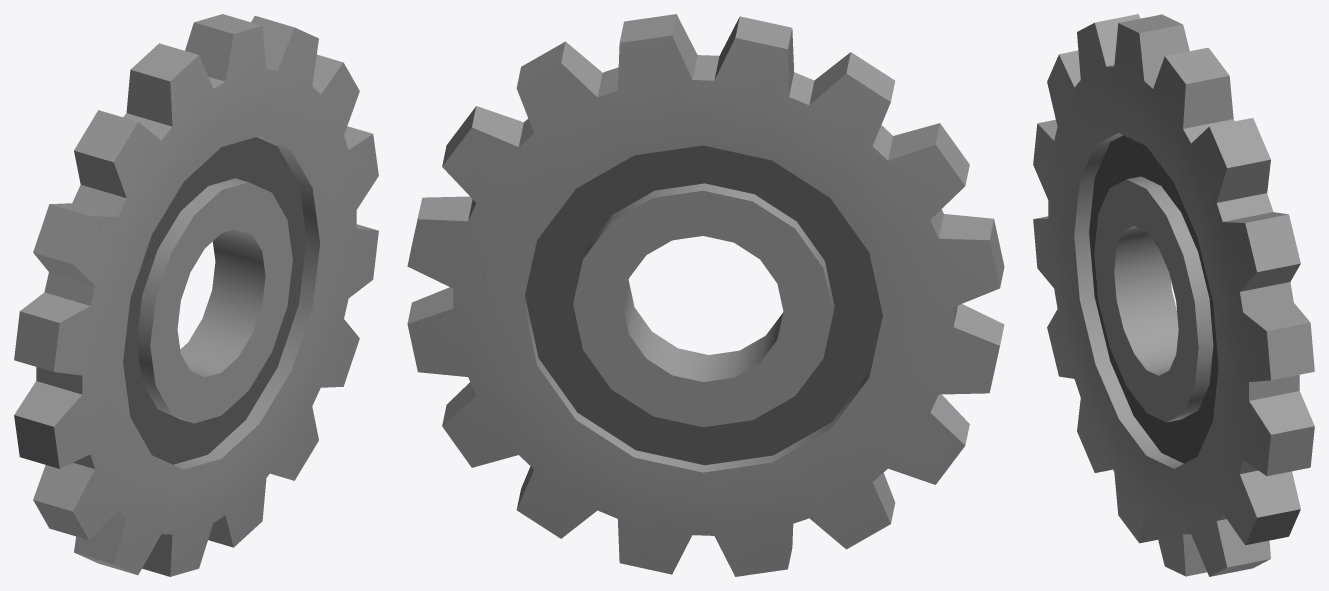
The model's file is gear.glb.
3 views of the same model, side by side, from view 1: azimuth 30°, elevation 25°; view 2: azimuth 150°, elevation 25°; view 3: azimuth 270°, elevation 25° (orthographic). The views are drawn at different scales.
Visible parts, largest first — view 1: Circle.2590; view 2: Circle.2590; view 3: Circle.2590.
Boxes of the visible parts, x1,y1,x2,y2 form: Circle.2590: [14, 14, 378, 576]; Circle.2590: [407, 14, 1004, 576]; Circle.2590: [1033, 14, 1314, 576].
Size of the model in its own units: 1.87 by 1.98 by 0.9913.
1 material, 1 textured.
